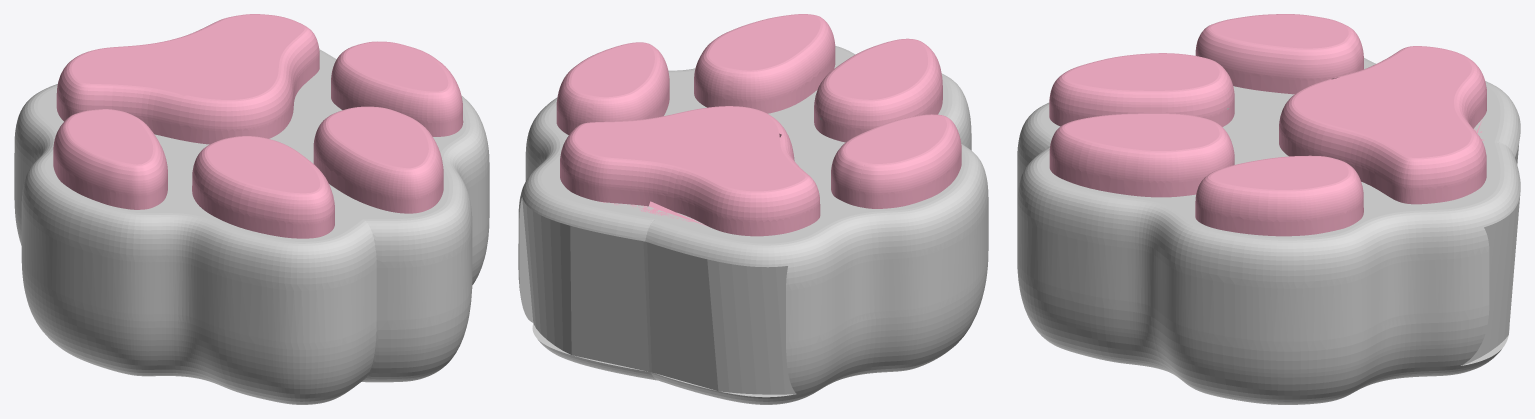
File: dog-training-clicker.fbx
The picture shows the model from 3 angles, left to right: view 1: azimuth 30°, elevation 25°; view 2: azimuth 150°, elevation 25°; view 3: azimuth 270°, elevation 25°; orthographic projection. The views are drawn at different scales.
Visible parts, largest first — view 1: Clicker_Body2, Clicker_Button2; view 2: Clicker_Body2, Clicker_Button2; view 3: Clicker_Body2, Clicker_Button2.
Part boxes in pixels (x1,y1,x2,y2): Clicker_Body2: (14,41,489,404); Clicker_Button2: (56,14,319,144); Clicker_Body2: (518,14,988,404); Clicker_Button2: (560,106,820,236); Clicker_Body2: (1017,14,1520,404); Clicker_Button2: (1279,46,1486,204).
Bounding box in the file's own units: 483 × 225 × 482.
